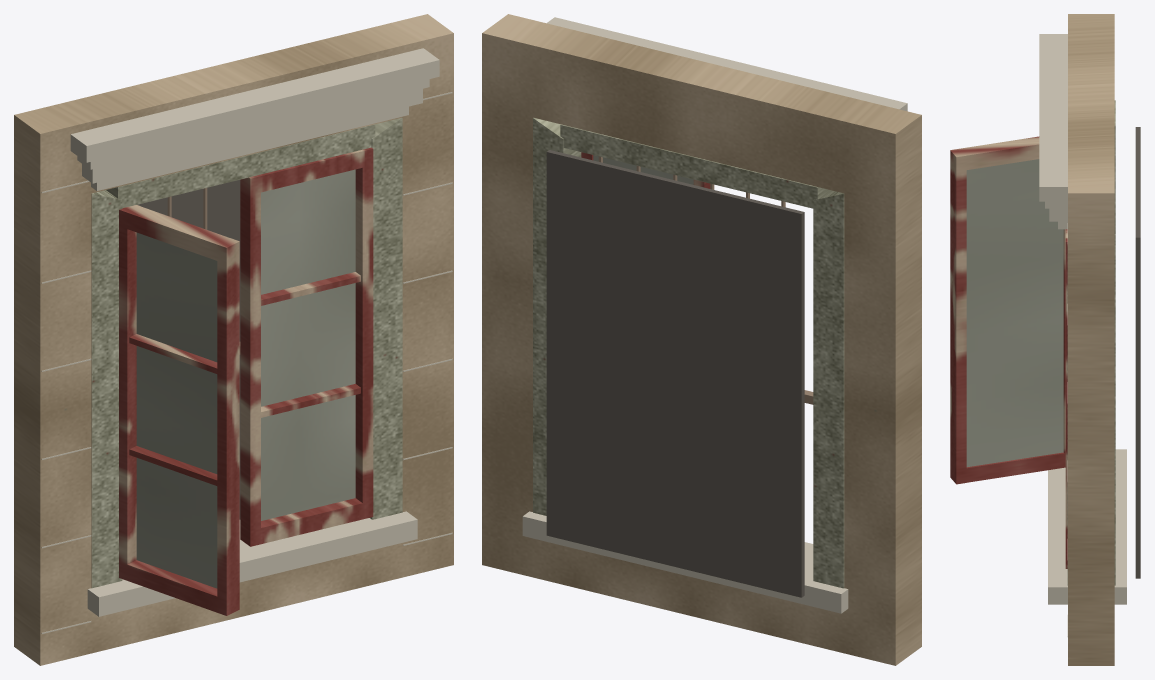
The model's file is chenqiao-1149-open-red-casement-far.glb.
3 views of the same model, side by side, from view 1: azimuth 30°, elevation 25°; view 2: azimuth 150°, elevation 25°; view 3: azimuth 270°, elevation 25° (orthographic). The views are drawn at different scales.
Visible parts, largest first — view 1: 陈桥村1149号东墙外开红窗与水刷石窗洞; view 2: 陈桥村1149号东墙外开红窗与水刷石窗洞; view 3: 陈桥村1149号东墙外开红窗与水刷石窗洞.
Part boxes in pixels (bbox=[...]): 陈桥村1149号东墙外开红窗与水刷石窗洞: bbox=[14, 14, 453, 665]; 陈桥村1149号东墙外开红窗与水刷石窗洞: bbox=[482, 14, 921, 665]; 陈桥村1149号东墙外开红窗与水刷石窗洞: bbox=[950, 14, 1140, 665].
Bounding box in the file's own units: 1.82 × 2.23 × 0.8157.
7 materials, 4 textured.
